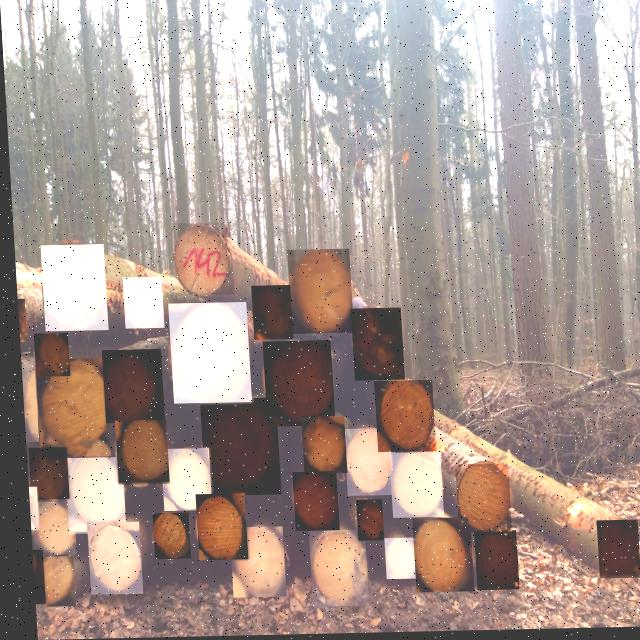wood-log: (165, 303, 247, 404), (195, 399, 275, 497), (31, 358, 105, 458), (258, 342, 330, 429), (37, 244, 104, 332), (284, 251, 350, 336), (59, 458, 120, 535), (97, 350, 160, 424), (406, 519, 467, 594), (302, 531, 361, 608), (169, 223, 231, 296), (369, 382, 430, 454), (80, 522, 136, 595), (223, 528, 279, 599), (450, 466, 507, 535), (347, 309, 400, 382), (383, 454, 437, 520), (339, 430, 392, 497), (110, 421, 164, 486), (189, 494, 241, 561), (155, 449, 206, 512), (286, 473, 333, 532), (467, 533, 512, 594), (590, 523, 634, 582), (296, 418, 341, 475), (25, 501, 70, 555), (248, 286, 289, 341), (23, 447, 63, 500), (119, 278, 160, 329), (32, 556, 68, 607), (146, 513, 184, 560), (30, 333, 65, 377), (17, 364, 34, 442), (377, 539, 408, 581), (350, 501, 377, 542), (26, 550, 38, 604), (23, 487, 33, 530), (14, 299, 23, 342)
